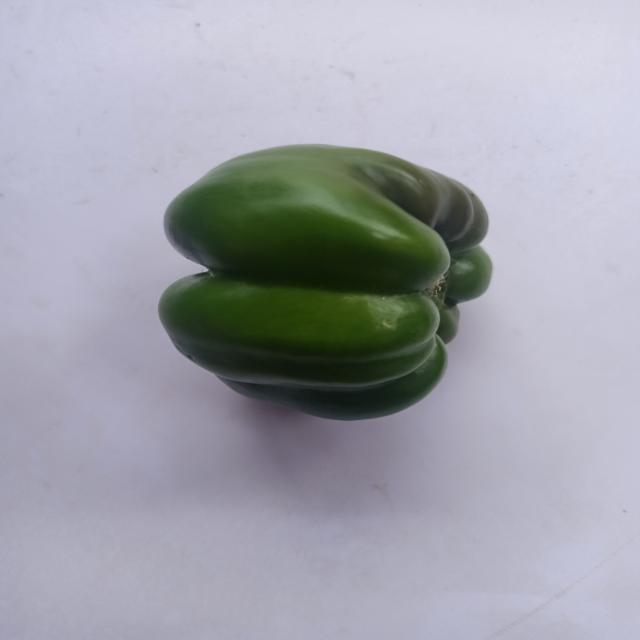Turnip: (150, 120, 600, 374)
